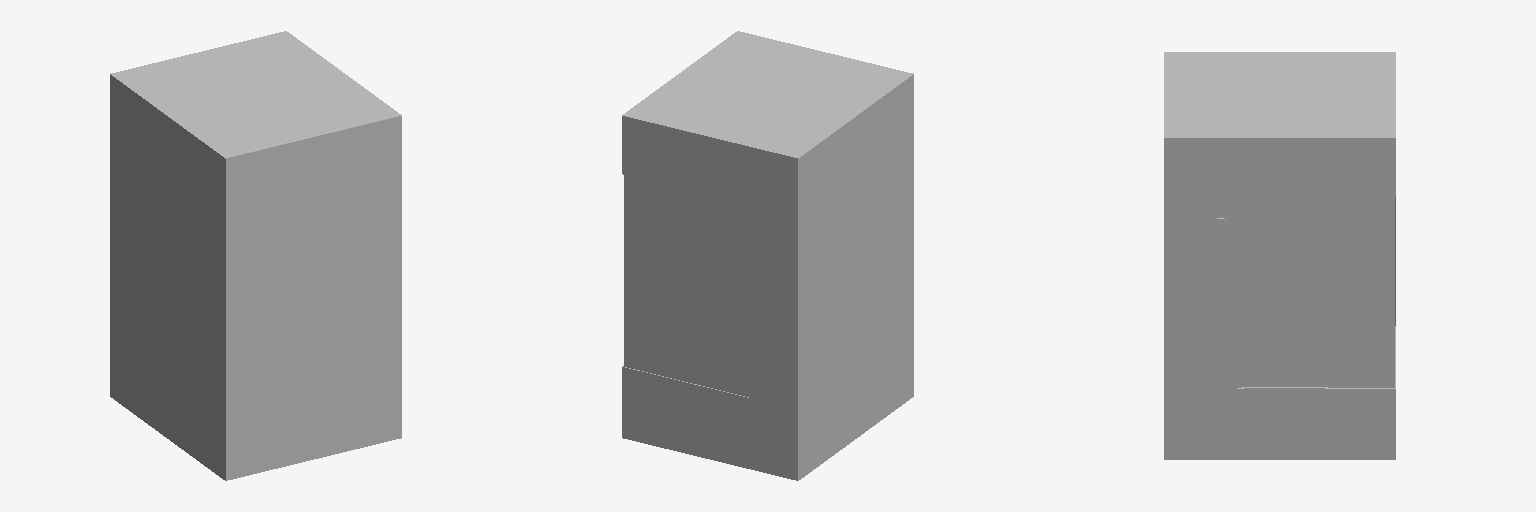
The model's file is Venmo_Funko.obj.
3 views of the same model, side by side, from view 1: azimuth 30°, elevation 25°; view 2: azimuth 150°, elevation 25°; view 3: azimuth 270°, elevation 25° (orthographic).
Visible parts, largest first — view 1: Cube; view 2: Cube; view 3: Cube.
Part boxes in pixels (left/top/right/bottom): Cube: left=110, top=31, right=401, bottom=480; Cube: left=622, top=31, right=913, bottom=480; Cube: left=1164, top=52, right=1395, bottom=459.
Bounding box in the file's own units: 2 × 3.49 × 2.27.